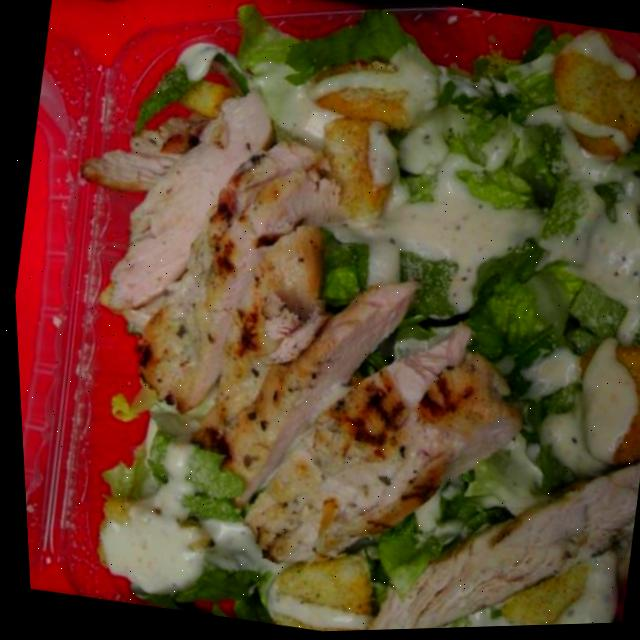蔬菜料理: (11, 0, 640, 640)
